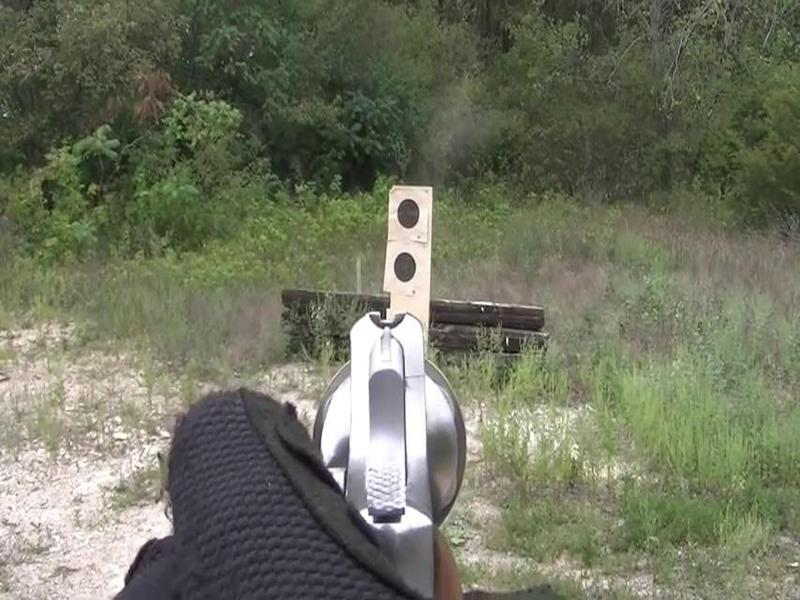Revolver: (295, 294, 474, 581)
